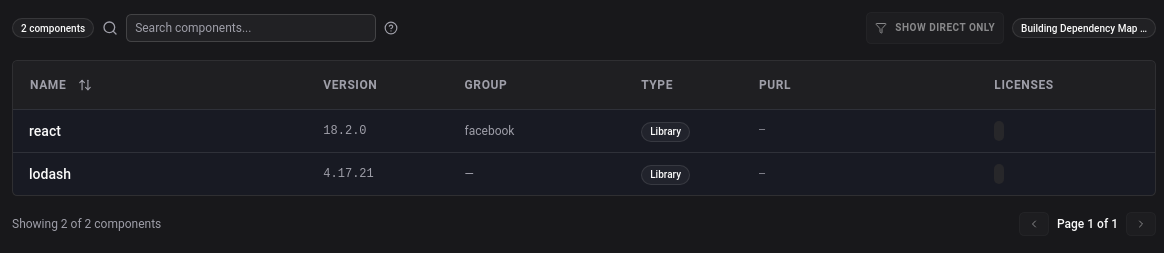
Test: Component Search Logic › filters by name in basic search
The width and height of the screenshot is (1164, 253).
Type "react" into the field with placeholder "Search components...".
click(251, 28); type("react")  # box x1=126 y1=14 x2=376 y2=42
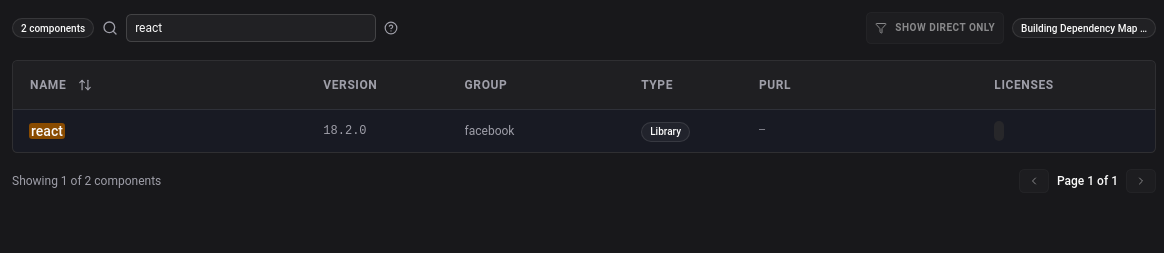
Check: the text "react" is shown, box x1=29 y1=123 x2=65 y2=139
Check: the text "lodash" is gone
